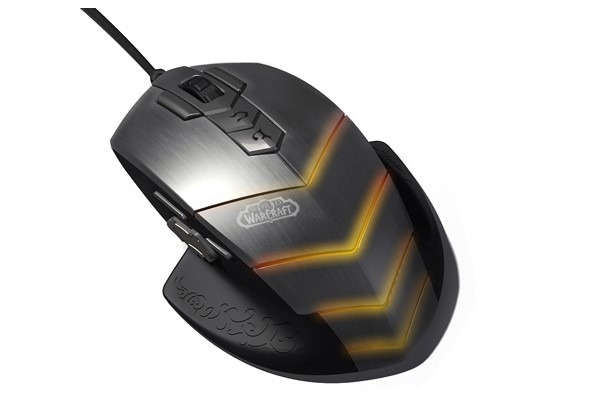mouse: (101, 56, 467, 389)
